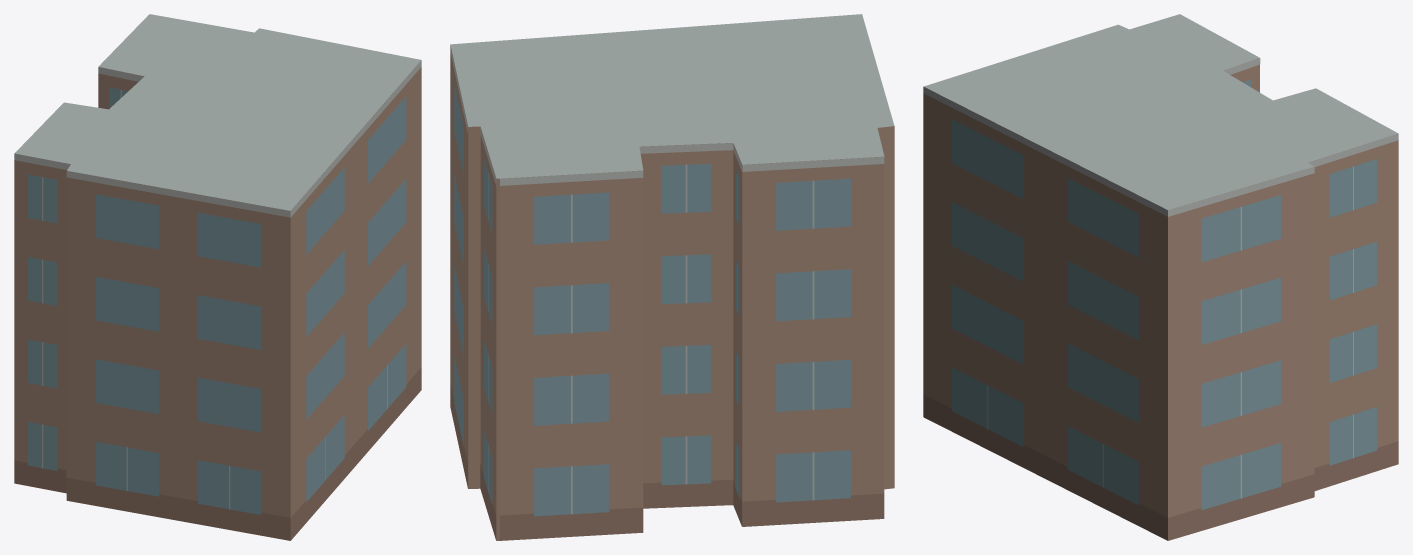
File: survey-upis-32950495.glb
The picture shows the model from 3 angles, left to right: view 1: azimuth 30°, elevation 25°; view 2: azimuth 150°, elevation 25°; view 3: azimuth 270°, elevation 25°; orthographic projection. The views are drawn at different scales.
Visible parts, largest first — view 1: survey-upis-32950495.tmp; view 2: survey-upis-32950495.tmp; view 3: survey-upis-32950495.tmp.
Boxes of the visible parts, bbox=[...] form: survey-upis-32950495.tmp: bbox=[14, 14, 421, 540]; survey-upis-32950495.tmp: bbox=[450, 14, 894, 540]; survey-upis-32950495.tmp: bbox=[923, 14, 1398, 540].
Size of the model in its own units: 15.41 by 12.1 by 15.76.
